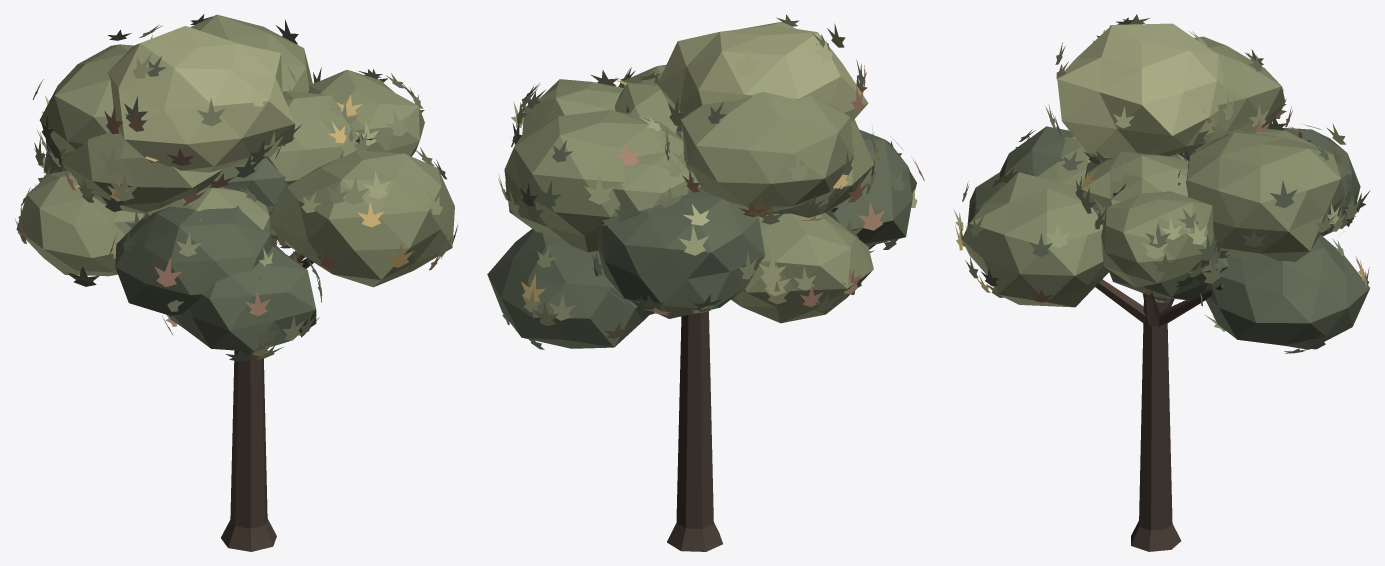
Rendered from tree_maple.fbx.
3 renders of one model, left to right at view 1: azimuth 30°, elevation 25°; view 2: azimuth 150°, elevation 25°; view 3: azimuth 270°, elevation 25°, orthographic. The views are drawn at different scales.
Parts seen in each view (by area): view 1: tree_maple; view 2: tree_maple; view 3: tree_maple.
Boxes of the visible parts, x1,y1,x2,y2 form: tree_maple: [14, 14, 458, 551]; tree_maple: [487, 14, 924, 551]; tree_maple: [954, 14, 1370, 551].
Size of the model in its own units: 3.51 by 3.73 by 4.72.
